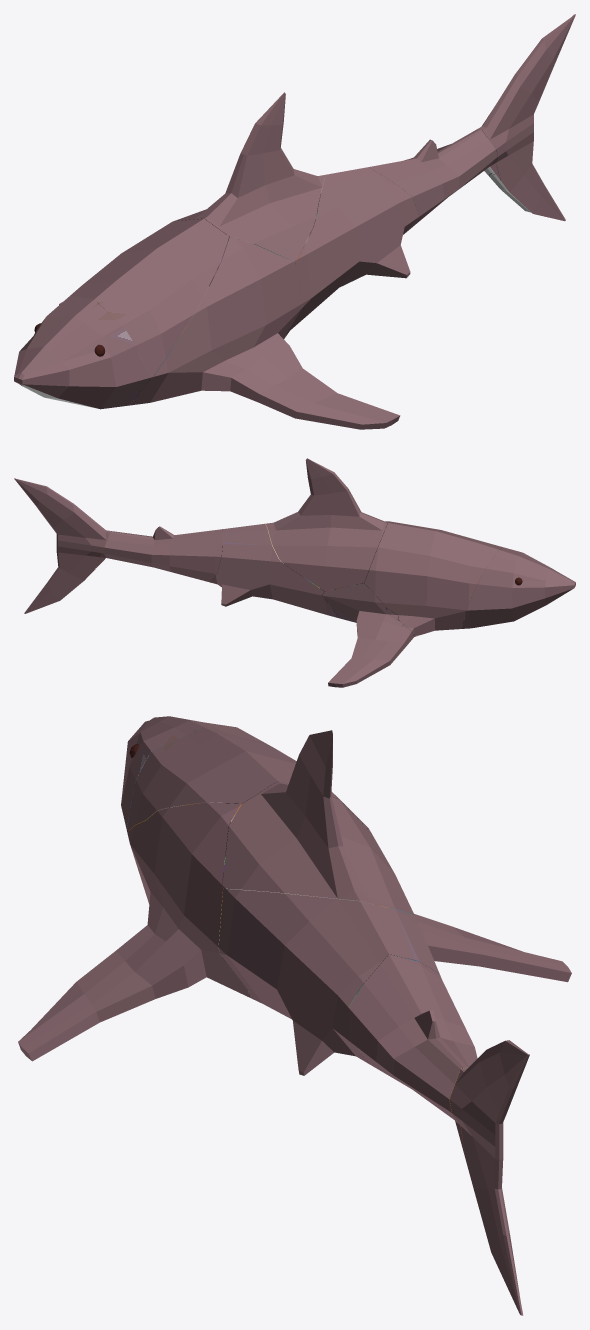
3 views of the same model, one above another, from view 1: azimuth 30°, elevation 25°; view 2: azimuth 150°, elevation 25°; view 3: azimuth 270°, elevation 25° (orthographic). The views are drawn at different scales.
Parts seen in each view (by area): view 1: Plane.003_Plane.045_cell.006, Plane.003_Plane.045_cell.005, Plane.003_Plane.045_cell.003, Plane.003_Plane.045_cell.001, Plane.003_Plane.045_cell.007, Plane.003_Plane.045_cell.002, Plane.003_Plane.045_cell; view 2: Plane.003_Plane.045_cell.005, Plane.003_Plane.045_cell.007, Plane.003_Plane.045_cell.003, Plane.003_Plane.045_cell.001, Plane.003_Plane.045_cell.002, Plane.003_Plane.045_cell.004, Plane.003_Plane.045_cell; view 3: Plane.003_Plane.045_cell.006, Plane.003_Plane.045_cell.003, Plane.003_Plane.045_cell.007, Plane.003_Plane.045_cell, Plane.003_Plane.045_cell.005, Plane.003_Plane.045_cell.002, Plane.003_Plane.045_cell.004, Plane.003_Plane.045_cell.001.
Boxes of the visible parts, x1,y1,x2,y2 form: Plane.003_Plane.045_cell.006: (129,237,400,429); Plane.003_Plane.045_cell.005: (70,218,228,379); Plane.003_Plane.045_cell.003: (286,167,419,335); Plane.003_Plane.045_cell.001: (14,295,149,409); Plane.003_Plane.045_cell.007: (174,92,325,262); Plane.003_Plane.045_cell.002: (478,14,575,221); Plane.003_Plane.045_cell: (369,129,500,231); Plane.003_Plane.045_cell.005: (364,522,505,635); Plane.003_Plane.045_cell.007: (266,458,388,591); Plane.003_Plane.045_cell.003: (210,523,336,617); Plane.003_Plane.045_cell.001: (462,548,575,628); Plane.003_Plane.045_cell.002: (14,478,110,613); Plane.003_Plane.045_cell.004: (322,583,413,687); Plane.003_Plane.045_cell: (95,526,222,582); Plane.003_Plane.045_cell.006: (18,802,249,1061); Plane.003_Plane.045_cell.003: (218,889,439,1075); Plane.003_Plane.045_cell.007: (222,730,414,914); Plane.003_Plane.045_cell: (348,954,477,1157); Plane.003_Plane.045_cell.005: (126,727,371,833); Plane.003_Plane.045_cell.002: (449,1040,529,1315); Plane.003_Plane.045_cell.004: (414,914,571,982); Plane.003_Plane.045_cell.001: (121,716,260,828).
Bounding box in the file's own units: 8.22 × 2.98 × 4.21.
2 materials, 2 textured.
